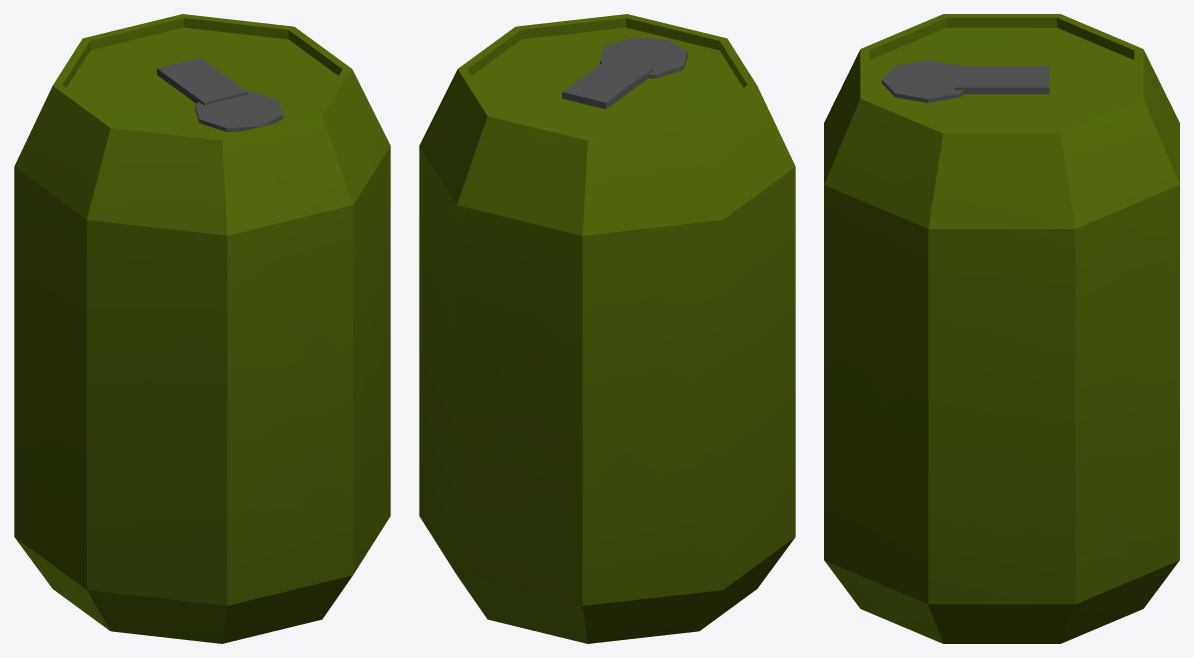
Rendered from Bottle_green_1.fbx.
3 renders of one model, left to right at view 1: azimuth 30°, elevation 25°; view 2: azimuth 150°, elevation 25°; view 3: azimuth 270°, elevation 25°, orthographic.
Visible parts, largest first — view 1: Bottle_green; view 2: Bottle_green; view 3: Bottle_green.
Boxes of the visible parts, x1,y1,x2,y2 form: Bottle_green: (14, 14, 390, 643); Bottle_green: (419, 14, 795, 643); Bottle_green: (824, 14, 1179, 643).
Size of the model in its own units: 5.15 by 8.15 by 5.15.
